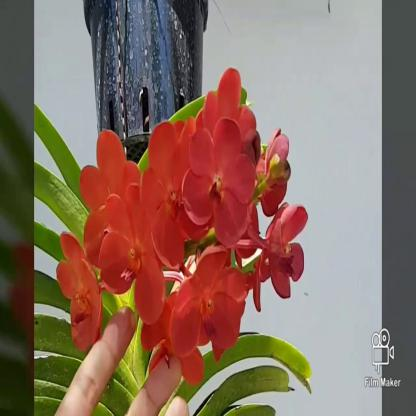ANGGREK: (52, 95, 327, 384)
